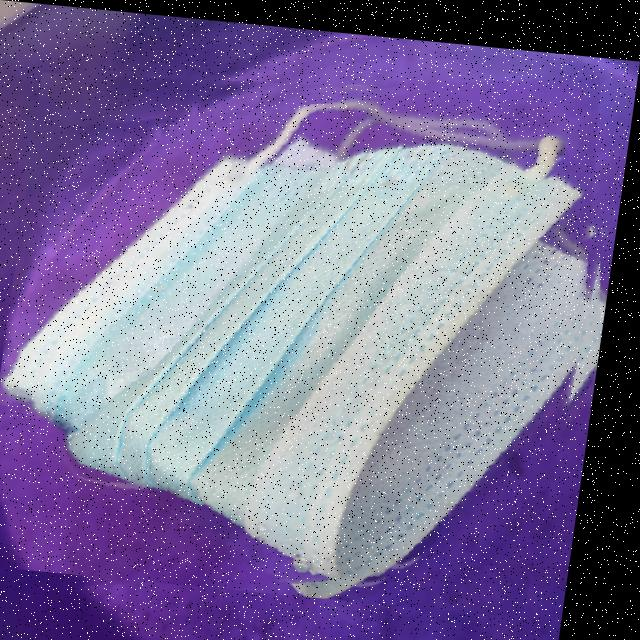litter: (0, 41, 636, 608)
